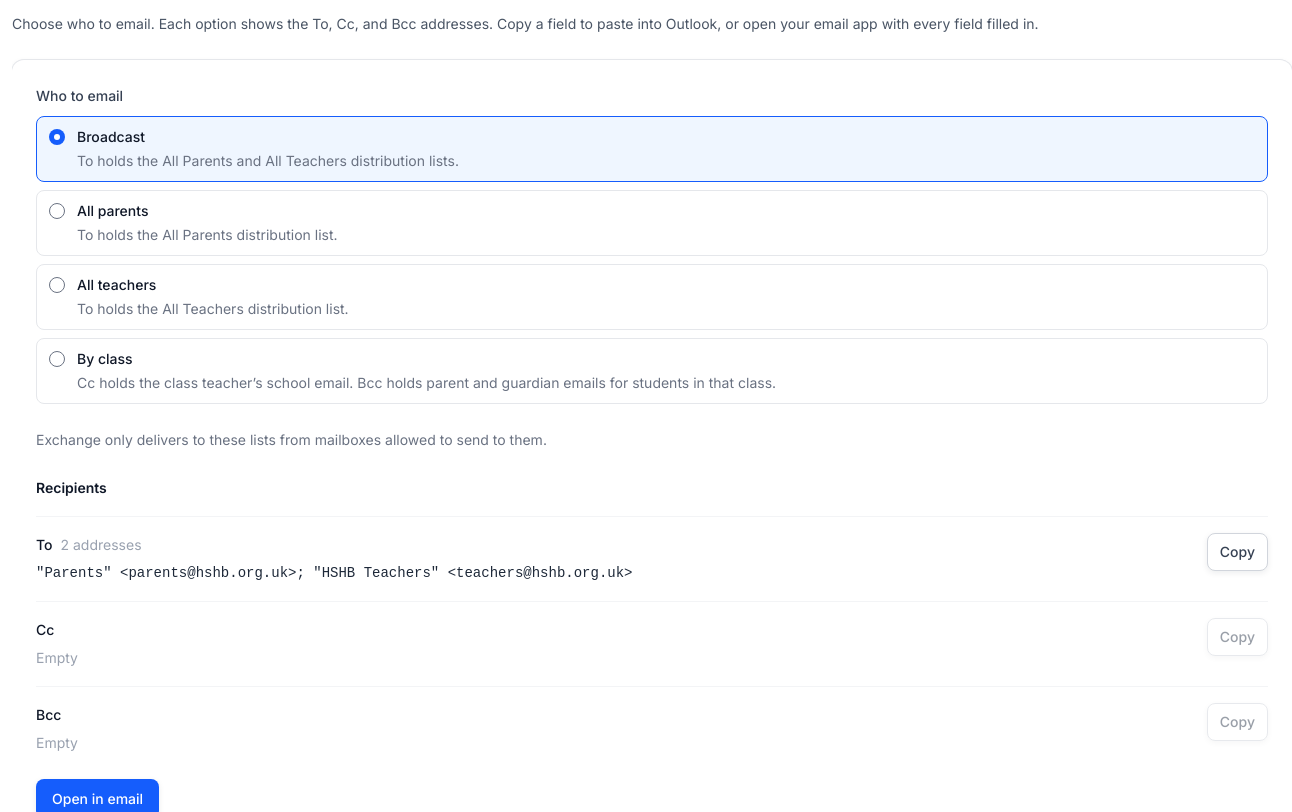
Test: CommunicationPanel › puts only the parents list in To
Click the radio button labelled "All parents To holds the All Parents distribution list.": (57,211) [49, 203, 65, 219]
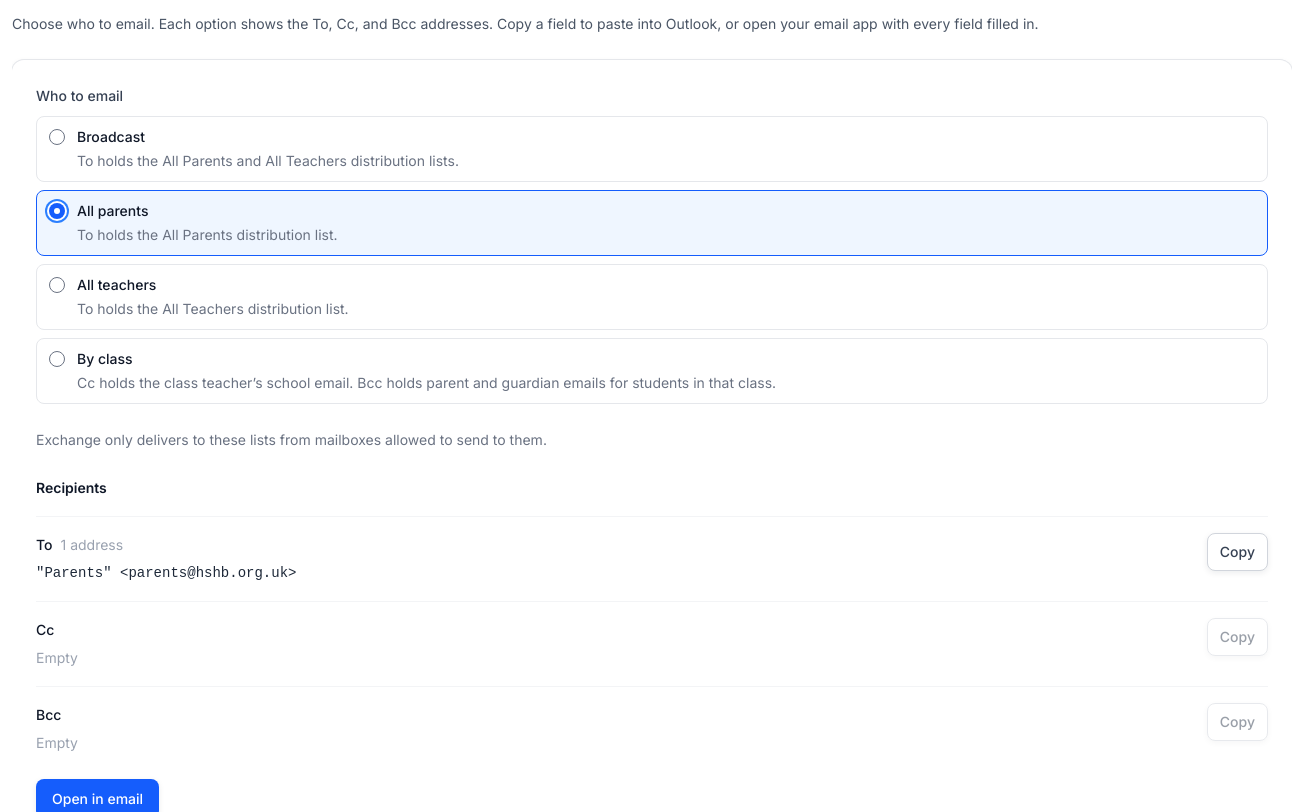
Expected: the text "\"Parents\" <parents@hshb.org.uk>" is shown, [36, 561, 296, 585]
Result: the text "\"HSHB Teachers\" <teachers@hshb.org.uk>" is gone
